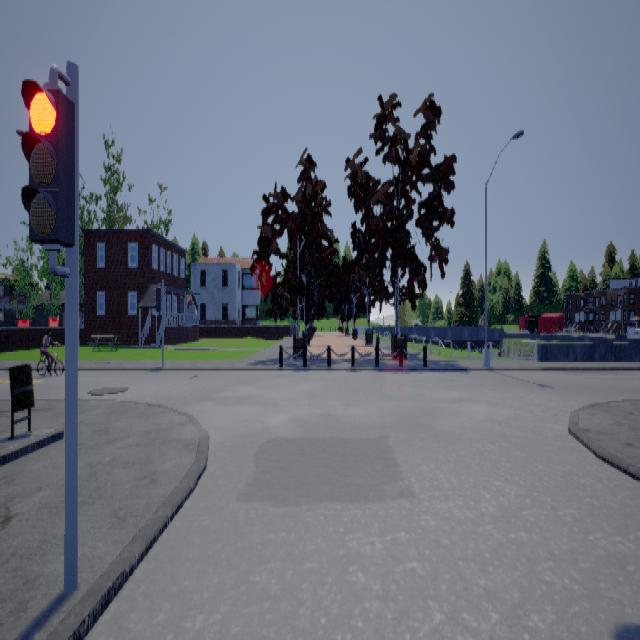bike: (35, 327, 66, 377)
red_light: (22, 62, 76, 276)
